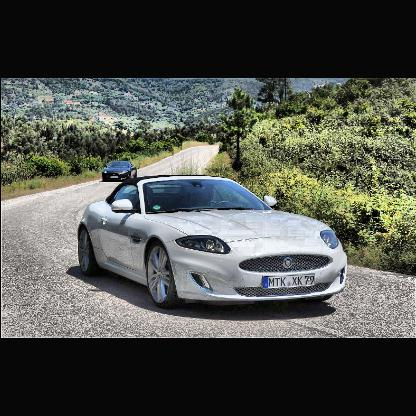Jaguar XK XKR 2012: (77, 174, 349, 310)
